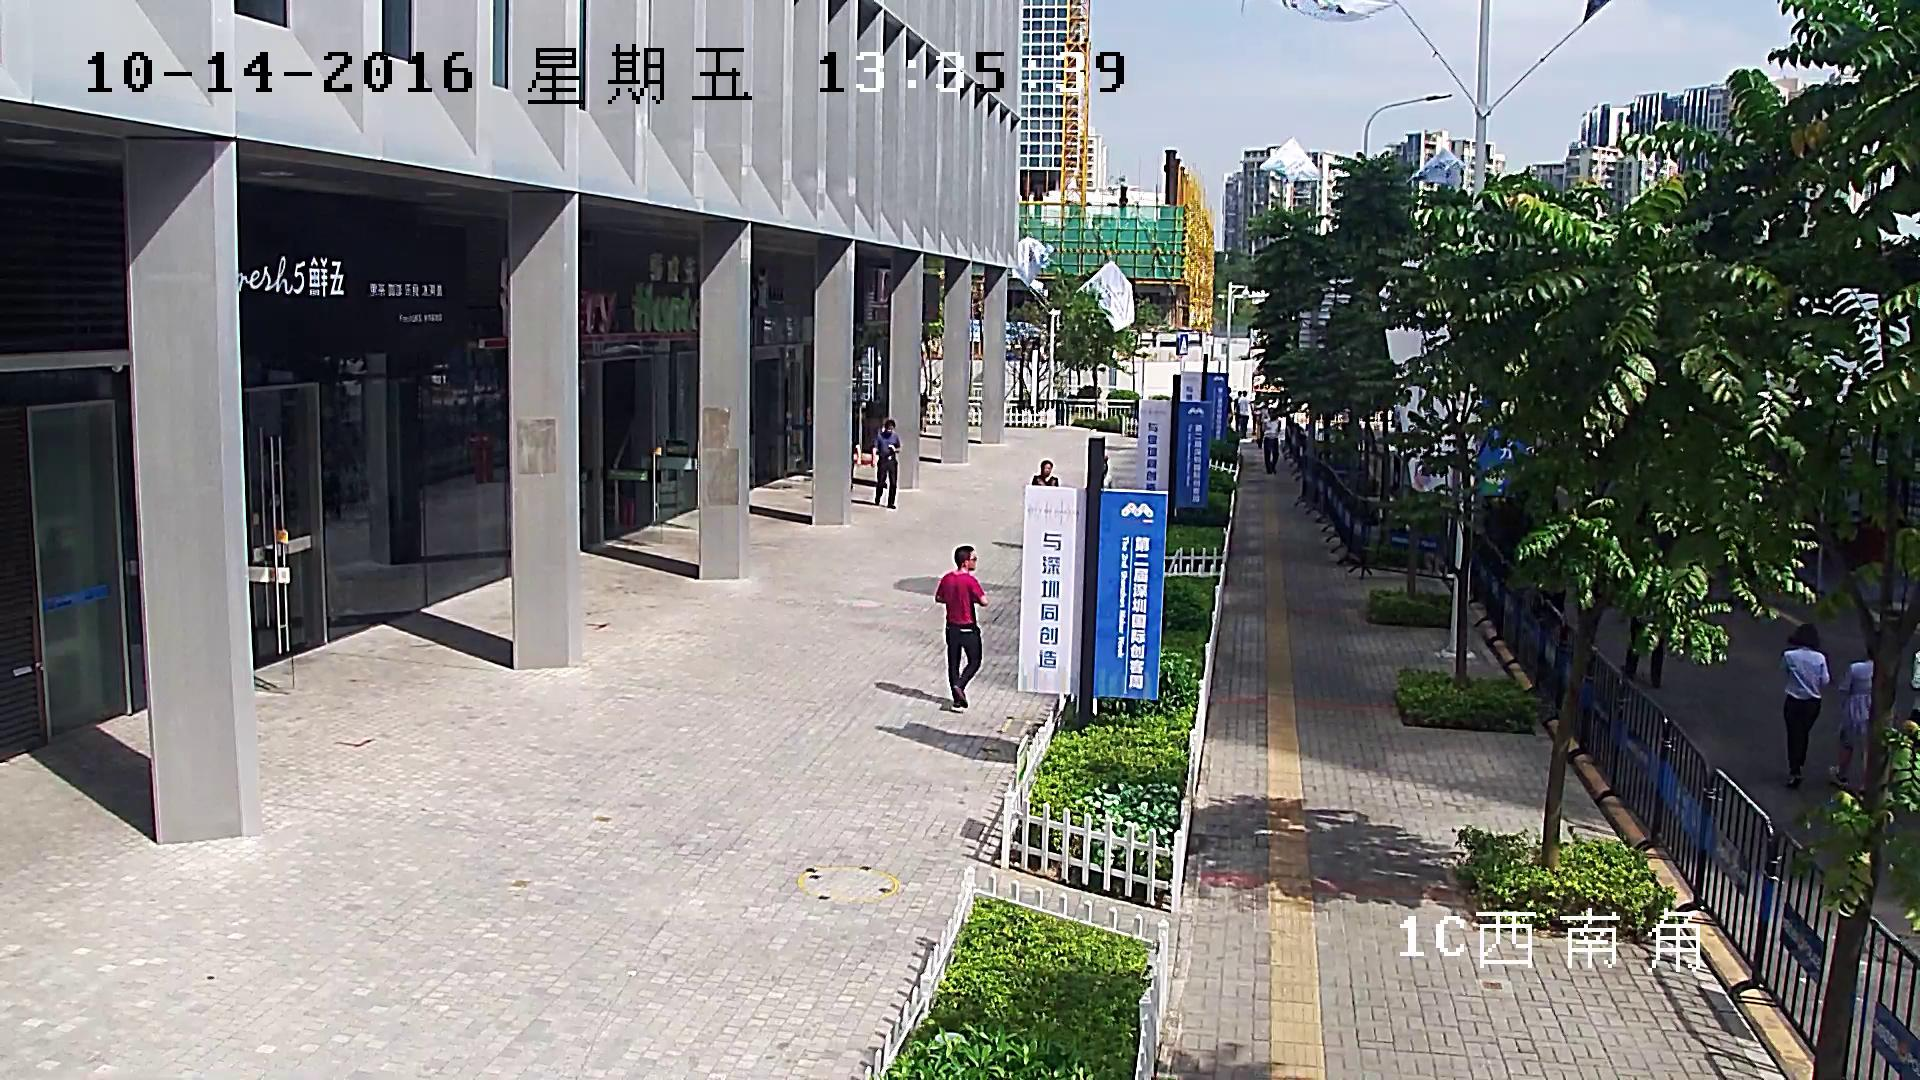person: (1779, 623, 1830, 787), (936, 545, 986, 707), (1826, 660, 1870, 792), (874, 421, 901, 507), (1262, 408, 1280, 473), (1249, 391, 1266, 436), (1030, 460, 1058, 485), (1239, 390, 1248, 438), (1226, 386, 1234, 434), (1235, 391, 1243, 431)
